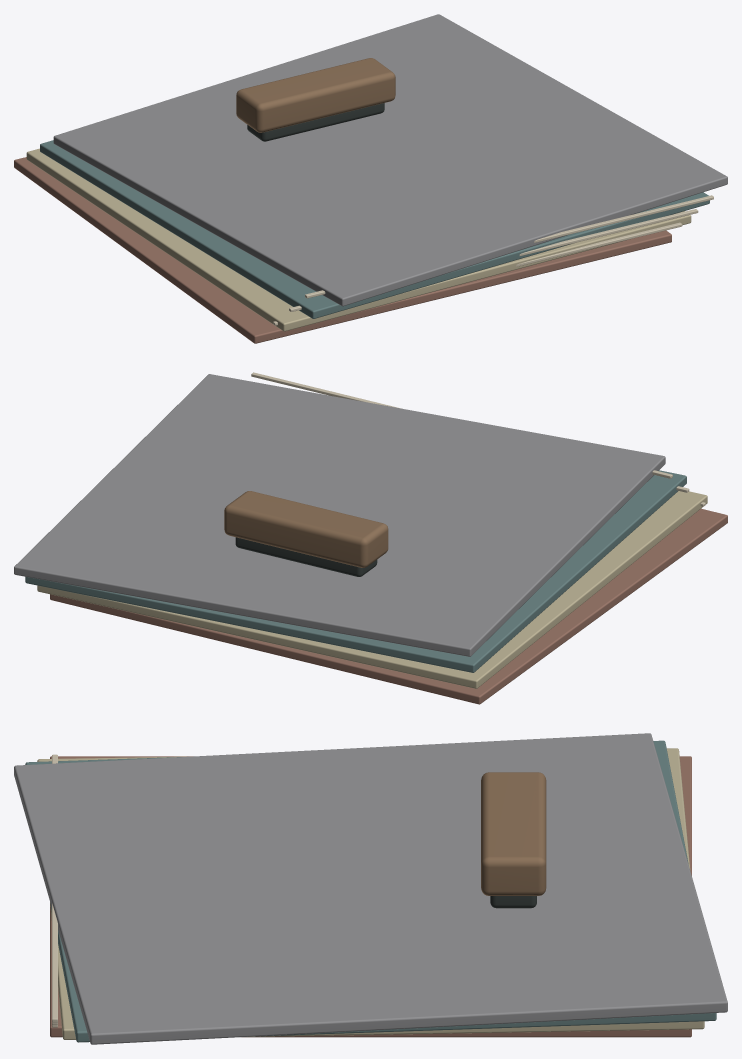
File: record-selection.glb
3 views of the same model, one above another, from view 1: azimuth 30°, elevation 25°; view 2: azimuth 150°, elevation 25°; view 3: azimuth 270°, elevation 25° (orthographic). The views are drawn at different scales.
Parts seen in each view (by area): view 1: Record sleeve / archive 3, Record sleeve / archive 0, Record sleeve / archive 1, Record sleeve / archive 2, Joinery | oiled walnut, Linen | unbleached cotton, Acoustics | woven charcoal; view 2: Record sleeve / archive 3, Record sleeve / archive 1, Record sleeve / archive 2, Record sleeve / archive 0, Joinery | oiled walnut, Acoustics | woven charcoal, Linen | unbleached cotton; view 3: Record sleeve / archive 3, Joinery | oiled walnut, Record sleeve / archive 2, Record sleeve / archive 1, Record sleeve / archive 0, Linen | unbleached cotton, Acoustics | woven charcoal.
Boxes of the visible parts, x1=… form: Record sleeve / archive 3: x1=53, y1=14, x2=727, y2=306; Record sleeve / archive 0: x1=14, y1=157, x2=671, y2=343; Record sleeve / archive 1: x1=26, y1=148, x2=691, y2=331; Record sleeve / archive 2: x1=40, y1=140, x2=709, y2=318; Joinery | oiled walnut: x1=236, y1=58, x2=395, y2=132; Linen | unbleached cotton: x1=273, y1=195, x2=713, y2=325; Acoustics | woven charcoal: x1=247, y1=103, x2=384, y2=141; Record sleeve / archive 3: x1=14, y1=374, x2=665, y2=656; Record sleeve / archive 1: x1=37, y1=491, x2=707, y2=688; Record sleeve / archive 2: x1=25, y1=470, x2=686, y2=672; Record sleeve / archive 0: x1=50, y1=508, x2=727, y2=704; Joinery | oiled walnut: x1=224, y1=491, x2=388, y2=567; Acoustics | woven charcoal: x1=235, y1=537, x2=377, y2=576; Linen | unbleached cotton: x1=251, y1=372, x2=705, y2=506; Record sleeve / archive 3: x1=14, y1=733, x2=727, y2=1044; Joinery | oiled walnut: x1=481, y1=772, x2=546, y2=895; Record sleeve / archive 2: x1=25, y1=740, x2=716, y2=1042; Record sleeve / archive 1: x1=37, y1=748, x2=704, y2=1039; Record sleeve / archive 0: x1=50, y1=756, x2=691, y2=1037; Linen | unbleached cotton: x1=52, y1=754, x2=57, y2=1027; Acoustics | woven charcoal: x1=490, y1=896, x2=536, y2=908.
Bounding box in the file's own units: 0.3686 × 0.0567 × 0.3502.
